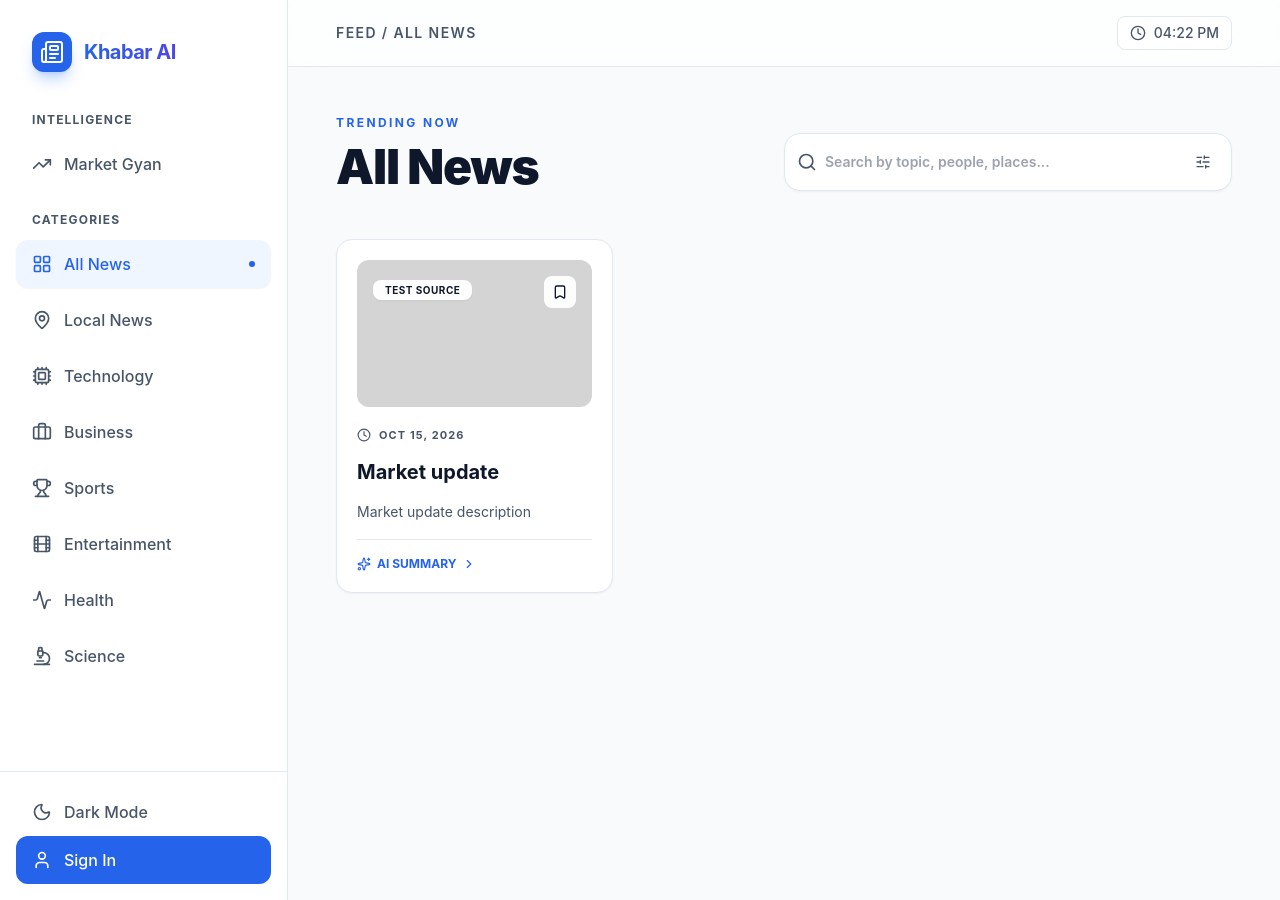
Test case: a failed summary shows the error without offering playback or rating
The image size is (1280, 900).
Click the button "AI SUMMARY". click: x=417, y=564
box: [357,556,476,572]
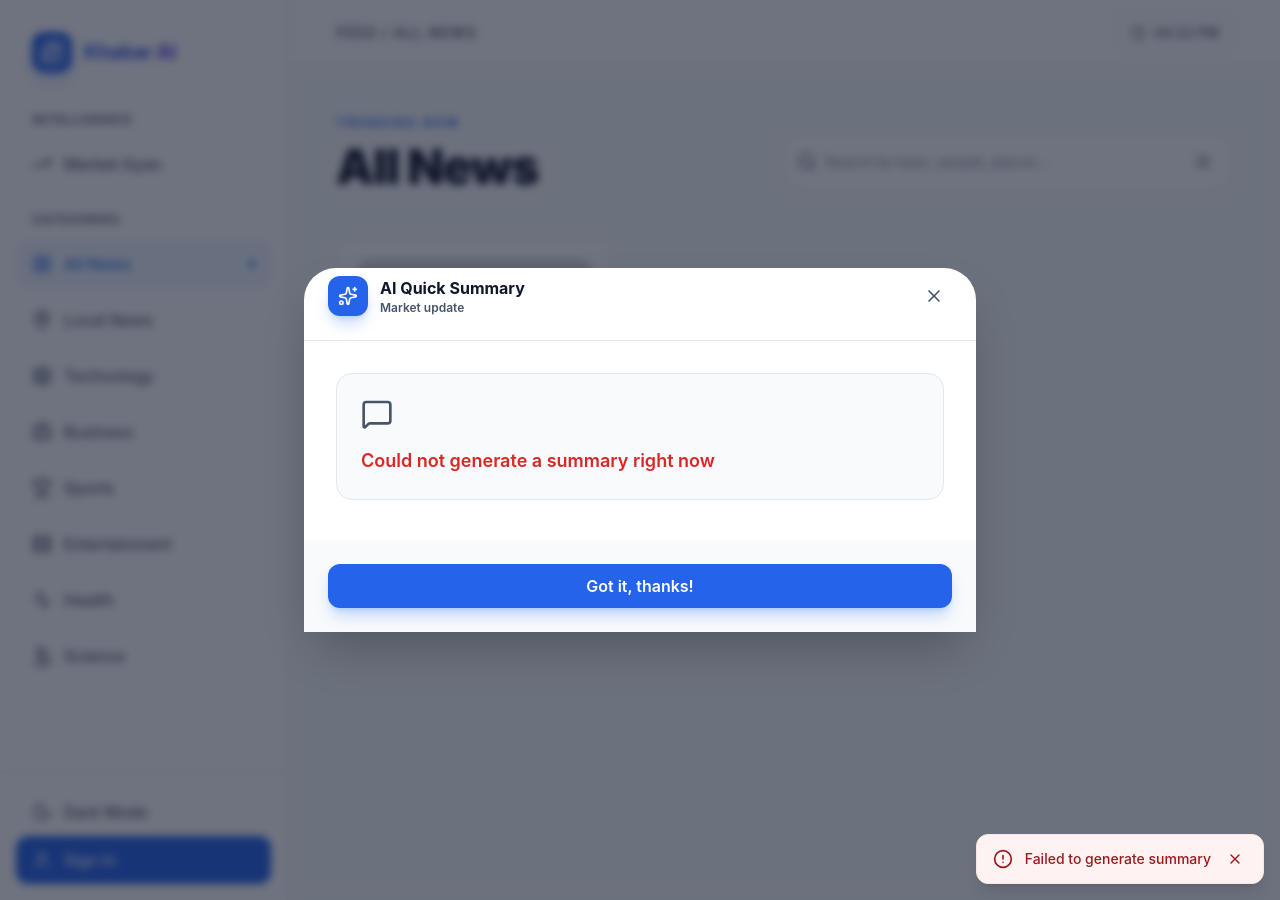
Expected: the message reads "Could not generate a summary right now", [361,450,715,471]
Press Escape
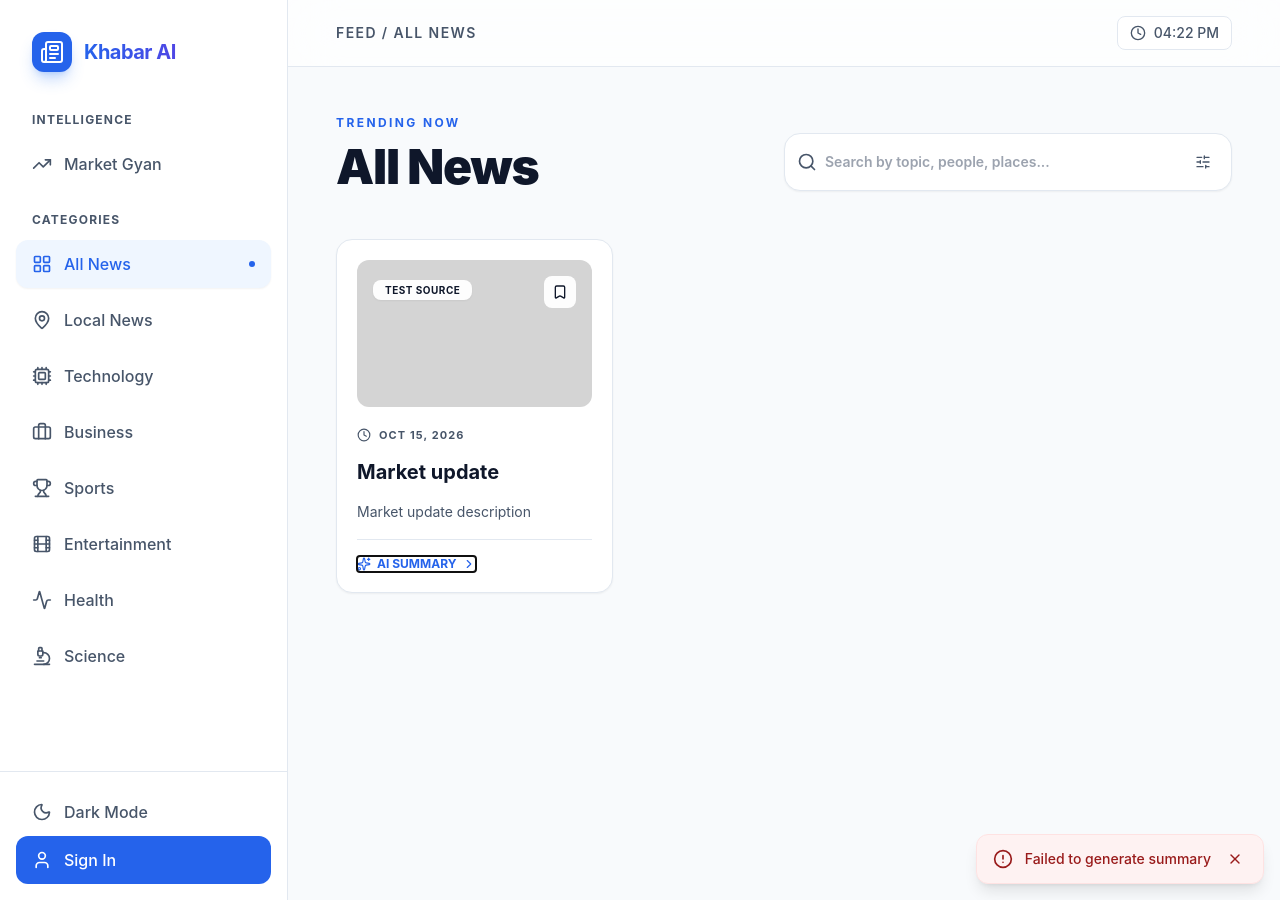
Expected: the dialog is gone
